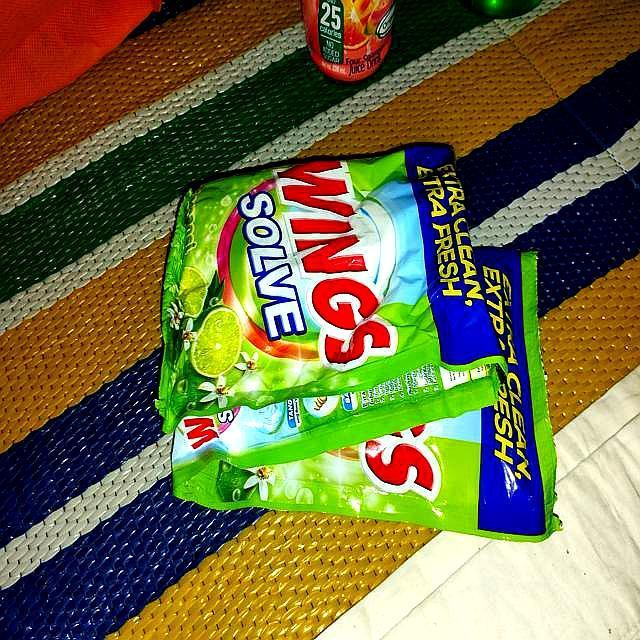Non-biodegradable: (155, 141, 560, 543)
